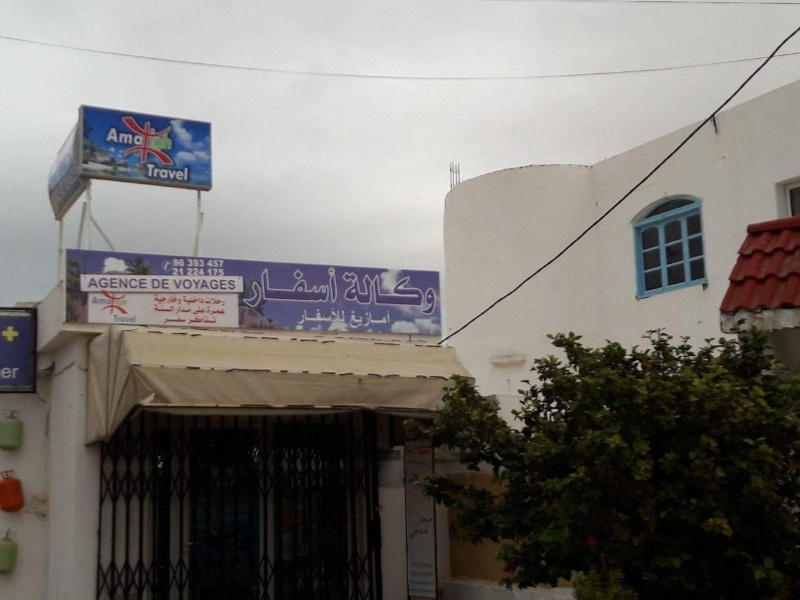text: (257, 260, 272, 309), (273, 260, 288, 309), (289, 260, 304, 309), (305, 260, 320, 309), (321, 260, 336, 309), (353, 270, 368, 317), (369, 270, 384, 317), (385, 270, 400, 317), (401, 270, 416, 317), (417, 270, 432, 317), (244, 260, 256, 309), (341, 270, 352, 317), (161, 127, 176, 156), (161, 162, 176, 184), (149, 127, 160, 156), (146, 162, 160, 184), (177, 162, 191, 184), (353, 309, 368, 329), (369, 309, 384, 329), (113, 127, 128, 146), (129, 127, 144, 146), (305, 307, 320, 326), (321, 307, 336, 326), (433, 270, 439, 317), (3, 324, 16, 343), (2, 365, 16, 382), (337, 307, 349, 326), (417, 524, 430, 541), (114, 296, 128, 310), (177, 278, 192, 291), (193, 278, 208, 291), (209, 278, 224, 291), (161, 294, 176, 307), (97, 277, 112, 289), (113, 277, 128, 289), (129, 277, 144, 289), (417, 515, 432, 527), (161, 302, 176, 314), (225, 278, 238, 291), (114, 313, 128, 325), (209, 267, 224, 278), (209, 296, 224, 307), (417, 442, 433, 452), (161, 277, 172, 291), (97, 296, 112, 306), (209, 306, 224, 316), (193, 316, 208, 326), (209, 260, 225, 269), (385, 309, 392, 329), (177, 306, 192, 315), (151, 277, 160, 291), (194, 307, 208, 316), (193, 296, 204, 307), (164, 314, 176, 324), (409, 524, 416, 541), (298, 307, 304, 326), (417, 449, 433, 456), (182, 296, 192, 307), (193, 259, 205, 268), (193, 268, 205, 277), (177, 314, 187, 324), (337, 260, 339, 309), (129, 313, 137, 325), (177, 294, 184, 307), (209, 316, 218, 326), (153, 302, 160, 314), (154, 294, 160, 307), (177, 259, 185, 268), (17, 365, 21, 382), (177, 267, 184, 276), (91, 277, 96, 289), (109, 127, 112, 146), (145, 277, 149, 289), (187, 259, 192, 268), (187, 268, 192, 277), (92, 296, 96, 306), (412, 442, 416, 452), (173, 278, 176, 291), (17, 324, 19, 343), (205, 296, 208, 307), (189, 316, 192, 326), (433, 515, 435, 527), (351, 309, 352, 329), (145, 127, 146, 146), (174, 259, 176, 268), (174, 267, 176, 276), (414, 449, 416, 456), (225, 267, 226, 278), (225, 296, 226, 307), (113, 296, 114, 306), (207, 306, 208, 316), (225, 306, 226, 316)
